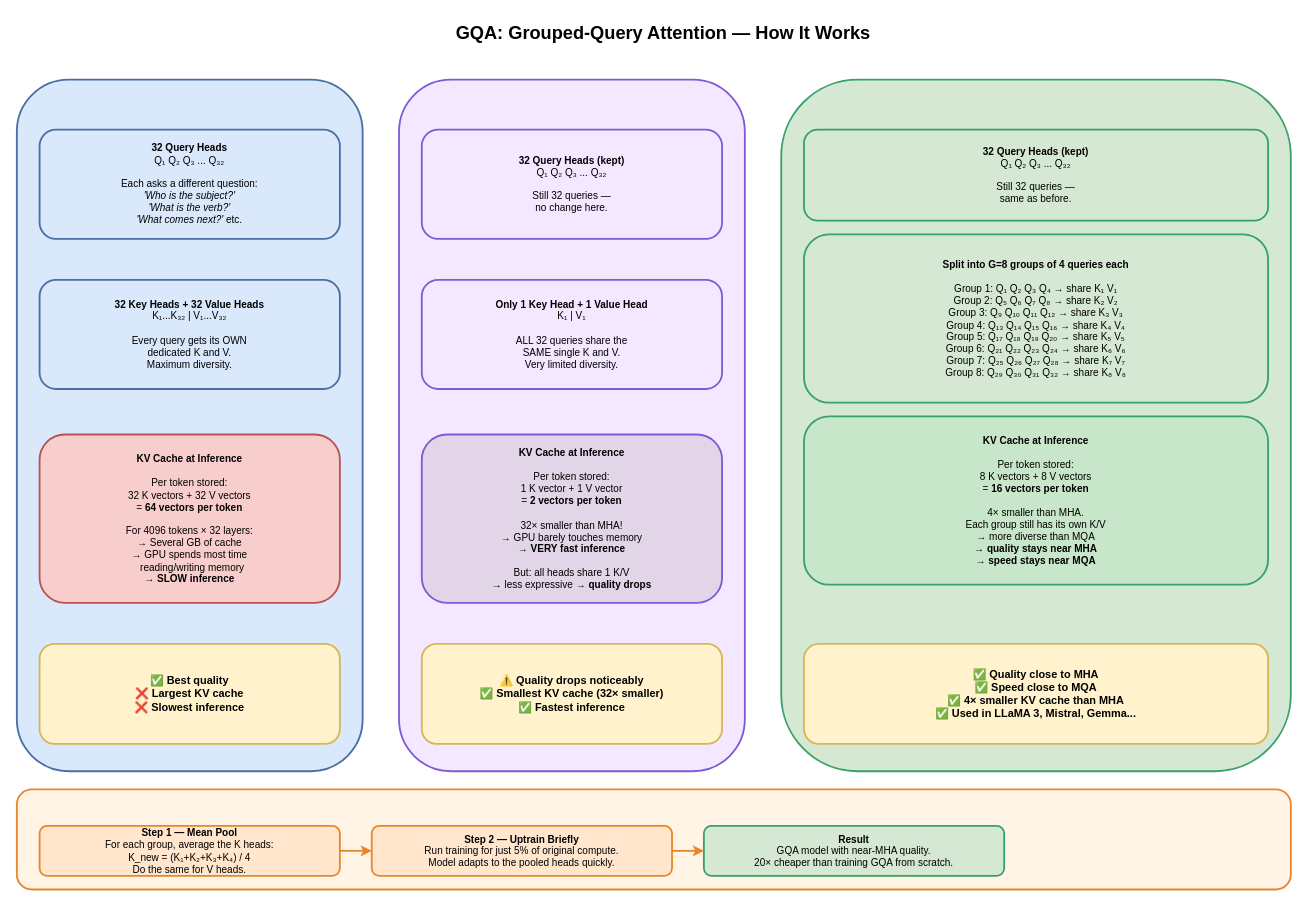
Image size: 1307x905. Some labels were removed from this diagram. The box of each missing label's shape, as (x1, y1, x2, y2) in pixels:
Bonus: The Uptraining Method — Convert an Existing MHA Model to GQA Cheaply: (15, 788, 1291, 890)
Grouped-Query Attention (GQA) This Paper — Best of Both Worlds ✨: (780, 78, 1291, 772)
Multi-Head Attention (MHA) Original — Full Quality, Slow Inference: (15, 78, 363, 772)
Multi-Query Attention (MQA) Shazeer 2019 — Fast but Quality Drops: (398, 78, 745, 772)
